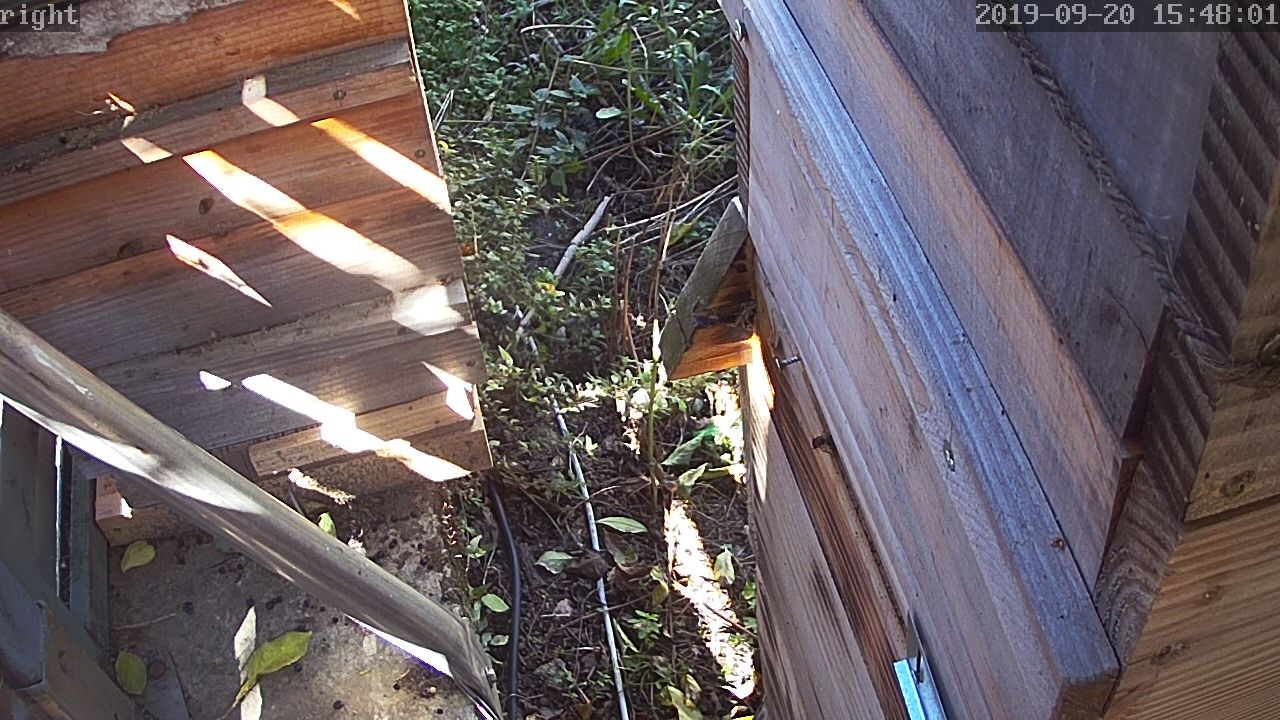bee: (807, 425, 835, 457)
